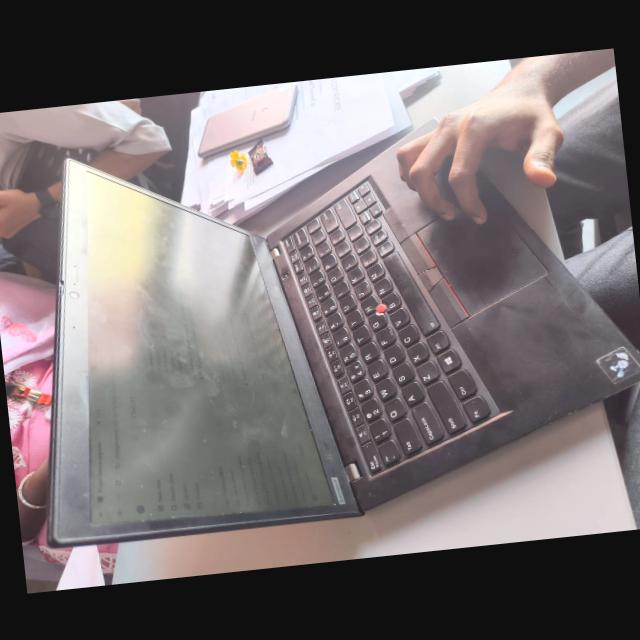laptop: (7, 95, 640, 554)
